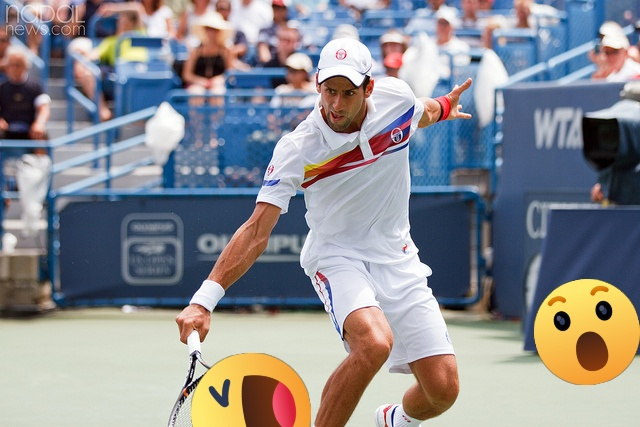haha: (191, 353, 311, 427)
wow: (534, 279, 640, 385)
